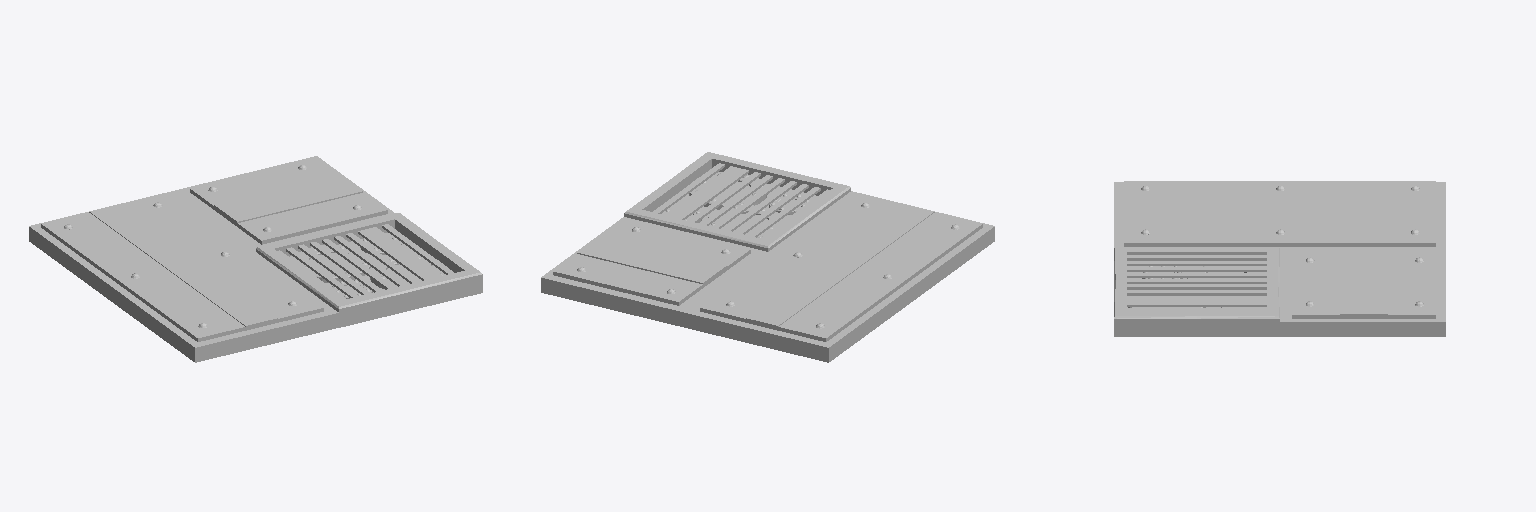
The model's file is Flor1.OBJ.
3 renders of one model, left to right at view 1: azimuth 30°, elevation 25°; view 2: azimuth 150°, elevation 25°; view 3: azimuth 270°, elevation 25°, orthographic.
Visible parts, largest first — view 1: Group47308, Group22905, Group23085, Group56173, Group26734; view 2: Group47308, Group22905, Group23085, Group56173, Group26734; view 3: Group47308, Group22905, Group56173, Group23085.
Boxes of the visible parts, <box> form: Group47308: <box>41,157,387,341</box>; Group22905: <box>29,156,482,362</box>; Group23085: <box>256,213,482,327</box>; Group56173: <box>277,224,453,299</box>; Group26734: <box>293,236,446,298</box>; Group47308: <box>553,193,982,341</box>; Group22905: <box>541,191,994,362</box>; Group23085: <box>624,152,850,251</box>; Group56173: <box>653,163,829,238</box>; Group26734: <box>662,172,808,237</box>; Group47308: <box>1124,181,1435,318</box>; Group22905: <box>1114,182,1445,336</box>; Group56173: <box>1127,255,1266,310</box>; Group23085: <box>1114,247,1279,321</box>.
Size of the model in its own units: 2.59 by 0.1928 by 2.59.